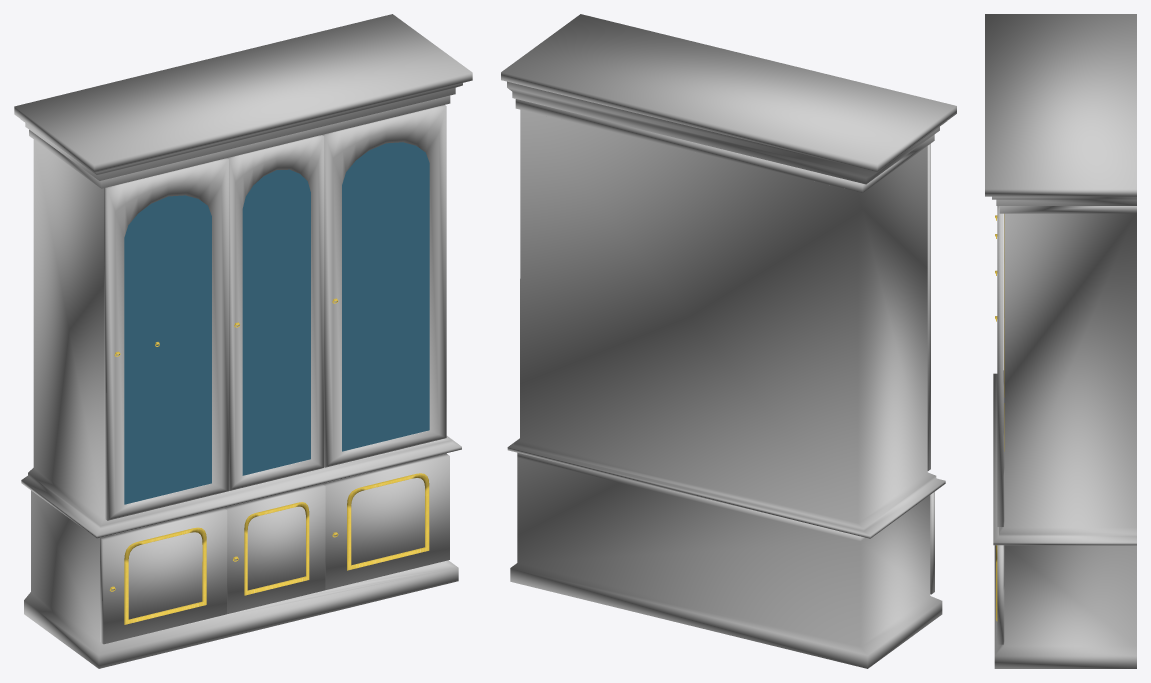
File: Cabinet02.fbx
The picture shows the model from 3 angles, left to right: view 1: azimuth 30°, elevation 25°; view 2: azimuth 150°, elevation 25°; view 3: azimuth 270°, elevation 25°; orthographic projection. The views are drawn at different scales.
Visible parts, largest first — view 1: Cupboard_low; view 2: Cupboard_low; view 3: Cupboard_low.
Boxes of the visible parts, x1=… form: Cupboard_low: x1=14, y1=14, x2=472, y2=668; Cupboard_low: x1=501, y1=14, x2=956, y2=668; Cupboard_low: x1=985, y1=14, x2=1136, y2=668.
Bounding box in the file's own units: 62.46 × 80.46 × 22.89.
